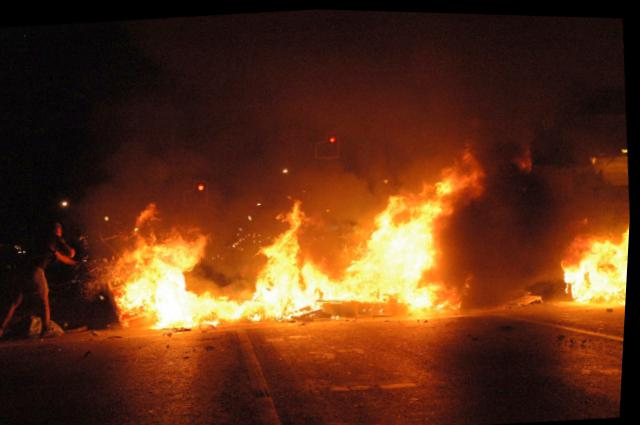fire: (109, 157, 492, 336), (558, 231, 630, 307)
